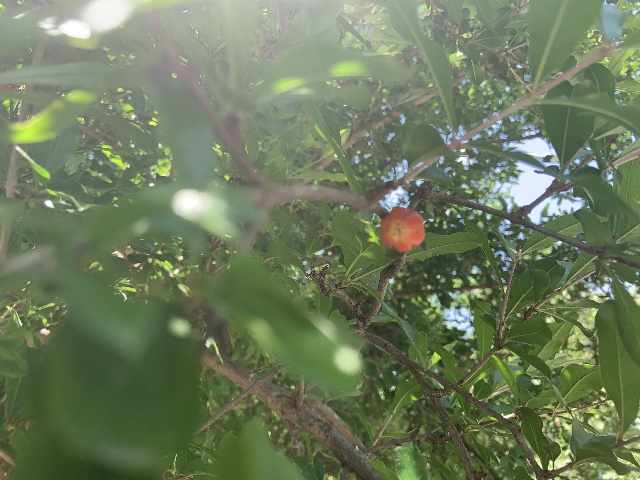bud: (379, 207, 425, 252)
